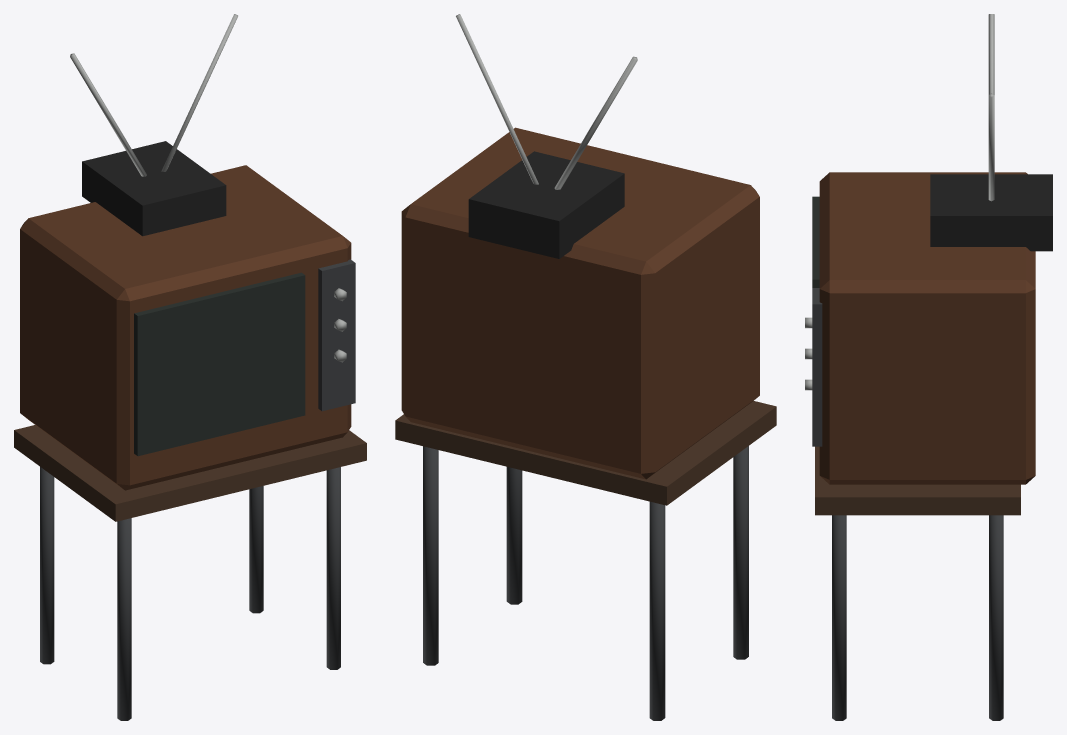
3 renders of one model, left to right at view 1: azimuth 30°, elevation 25°; view 2: azimuth 150°, elevation 25°; view 3: azimuth 270°, elevation 25°, orthographic. The views are drawn at different scales.
Visible parts, largest first — view 1: TV; view 2: TV; view 3: TV.
Boxes of the visible parts, x1,y1,x2,y2 form: TV: [14, 14, 366, 720]; TV: [395, 14, 776, 720]; TV: [805, 14, 1052, 720].
Size of the model in its own units: 0.6 by 1.38 by 0.505.
